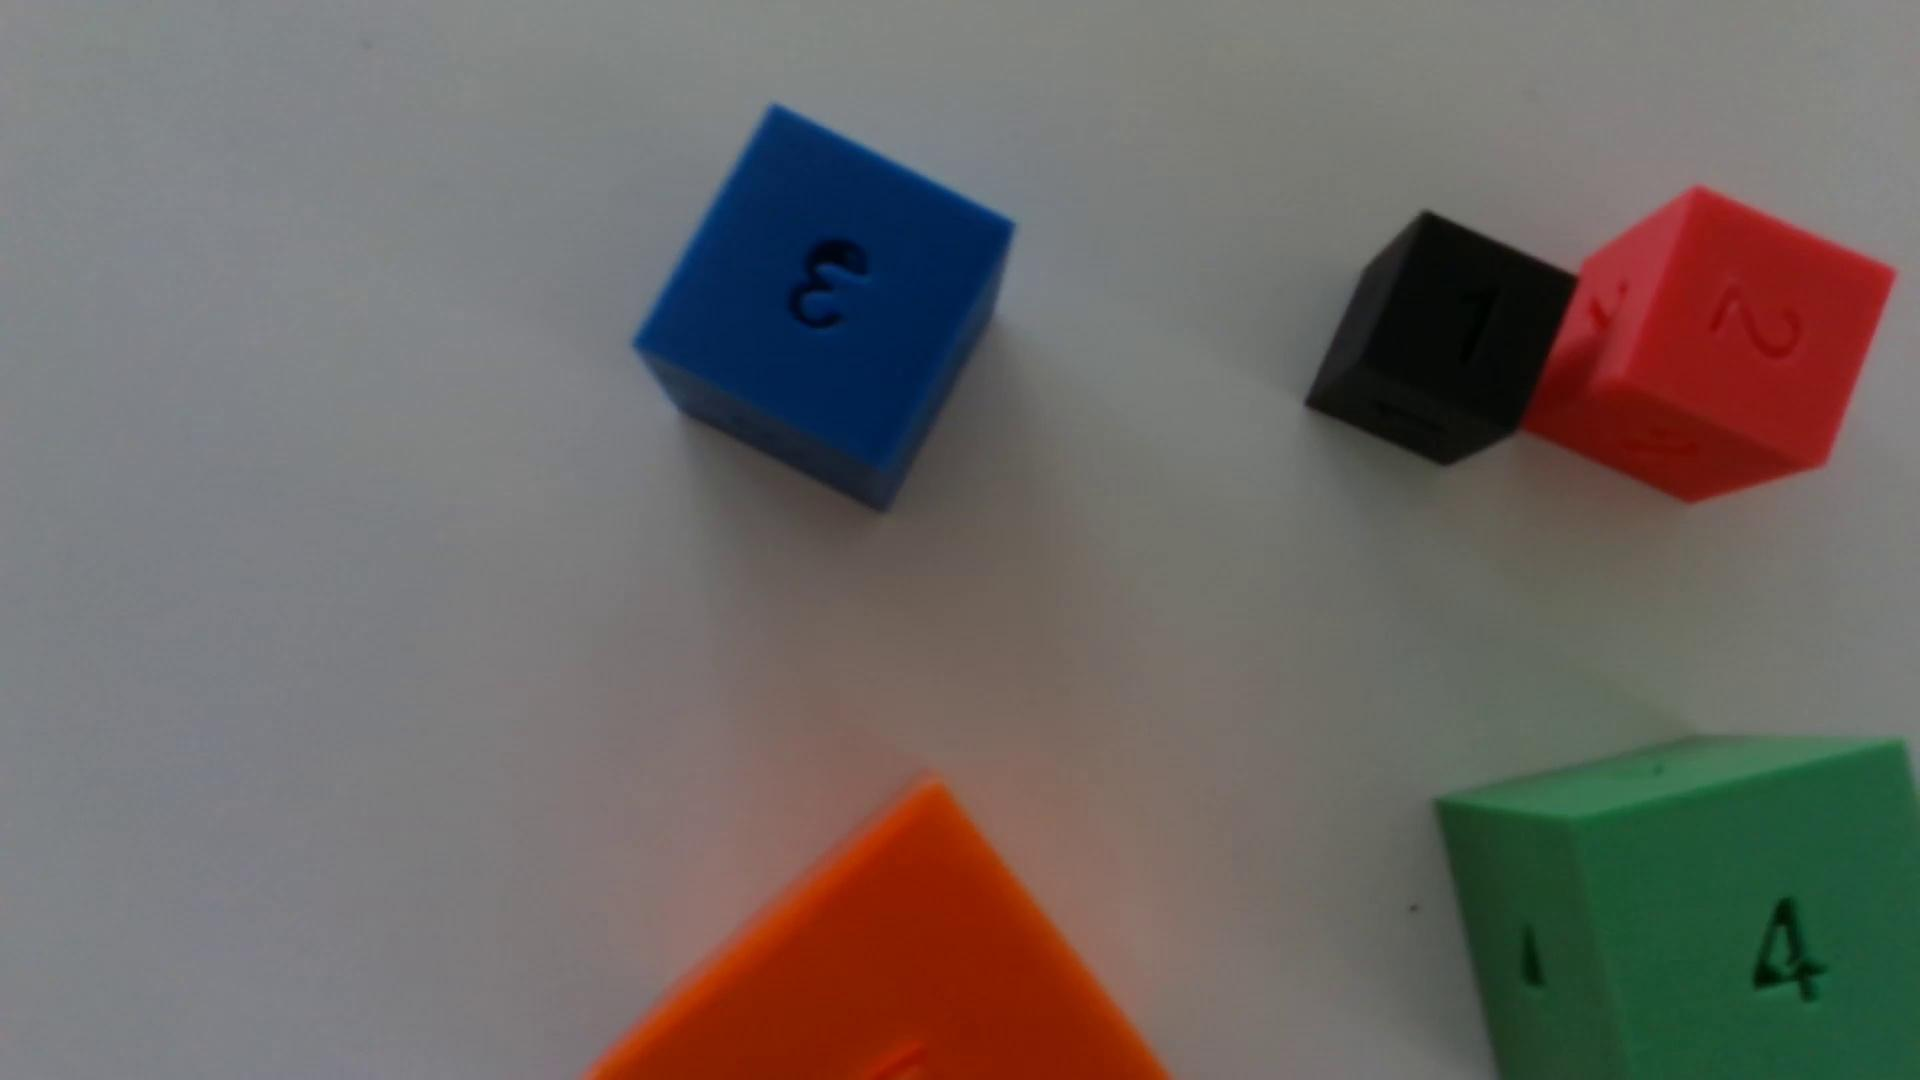black: (1305, 214, 1575, 467)
blue: (636, 107, 1014, 510)
green: (1436, 738, 1920, 1080)
orange: (589, 785, 1167, 1080)
red: (1523, 189, 1894, 504)
